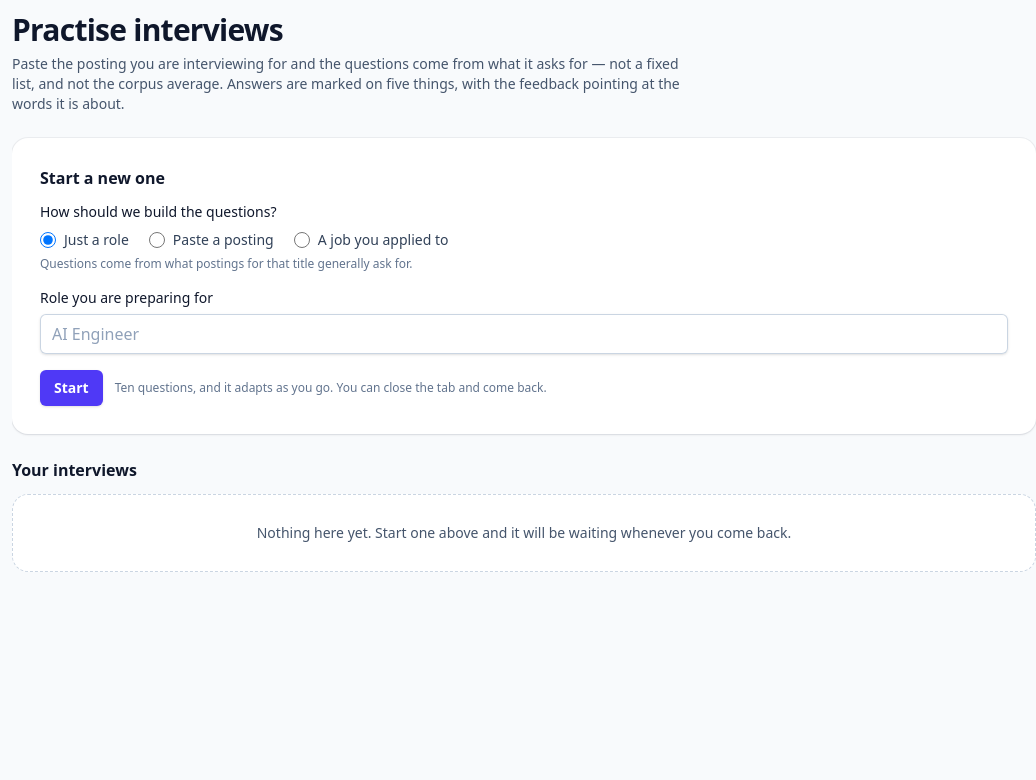
InterviewsPage › starting one › asks for a role instead of sending an empty one
Click the button "Start" at (71,388), box x1=40 y1=370 x2=103 y2=406
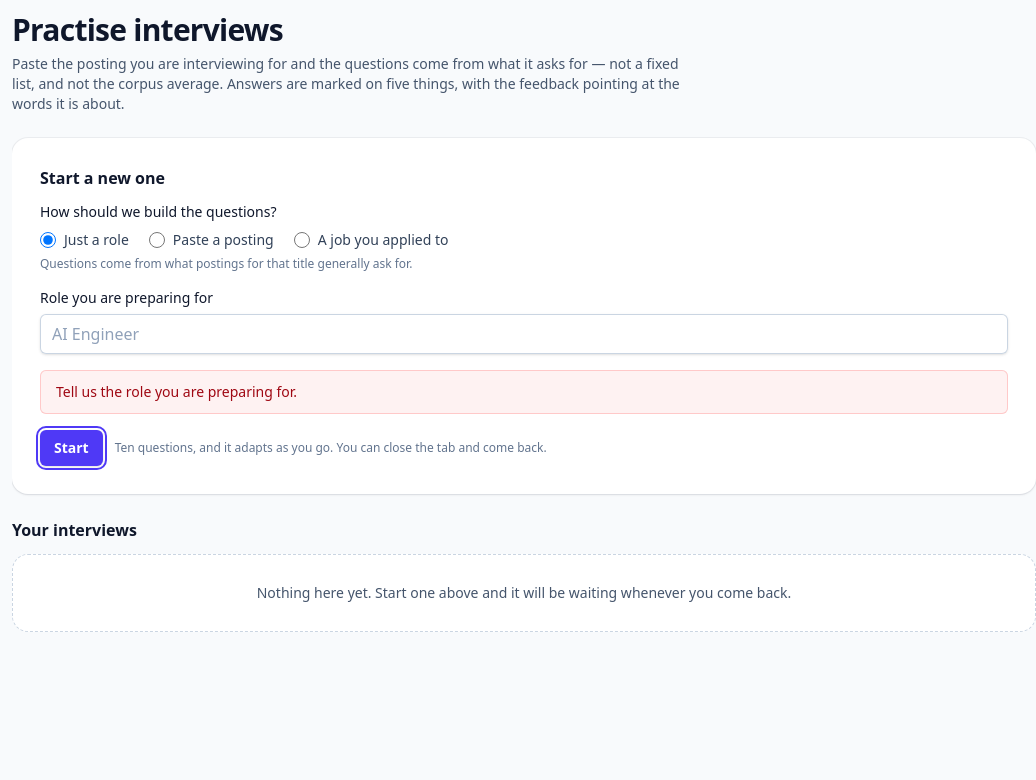
Expected: the message "Tell us the role you are preparing for." is shown, x1=40 y1=370 x2=1008 y2=414
